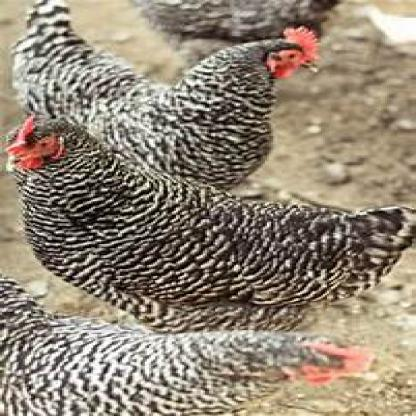chicken: (0, 119, 414, 329), (14, 0, 336, 181), (0, 276, 381, 415)
